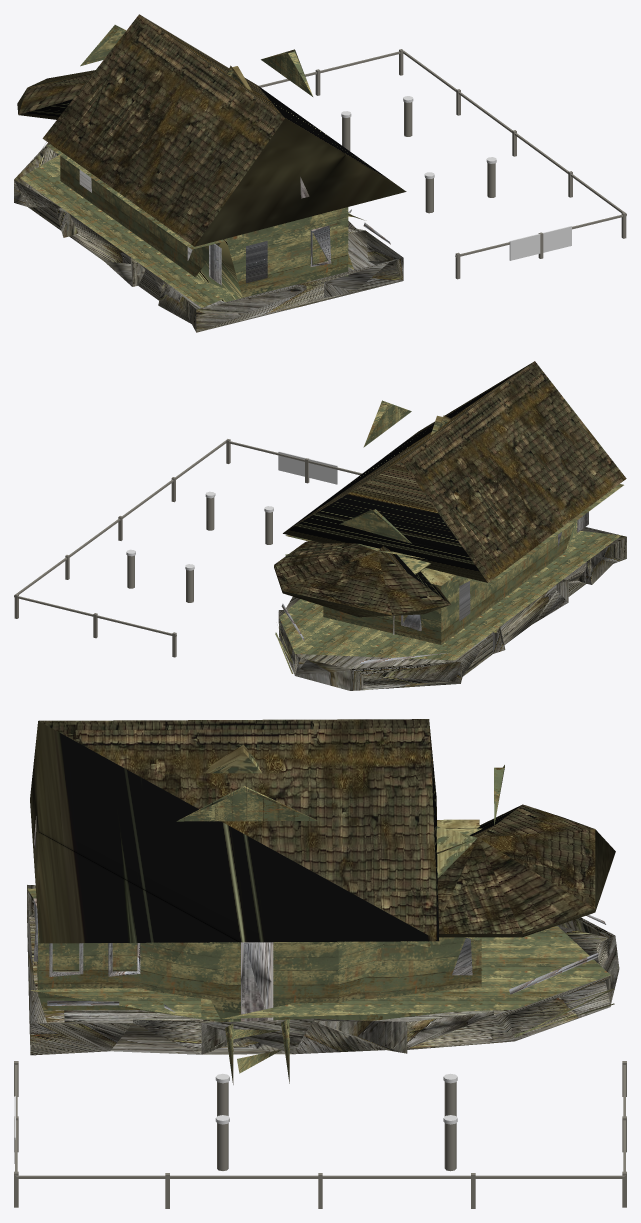
The picture shows the model from 3 angles, top to bottom: view 1: azimuth 30°, elevation 25°; view 2: azimuth 150°, elevation 25°; view 3: azimuth 270°, elevation 25°; orthographic projection. The views are drawn at different scales.
Parts seen in each view (by area): view 1: dweller_building_training; view 2: dweller_building_training; view 3: dweller_building_training.
Part boxes in pixels (bbox=[...]): dweller_building_training: bbox=[14, 14, 626, 332]; dweller_building_training: bbox=[14, 361, 626, 690]; dweller_building_training: bbox=[14, 719, 626, 1208].
Size of the model in its own units: 20.88 by 9 by 18.84.
Materials: 6 (4 with a texture image).
